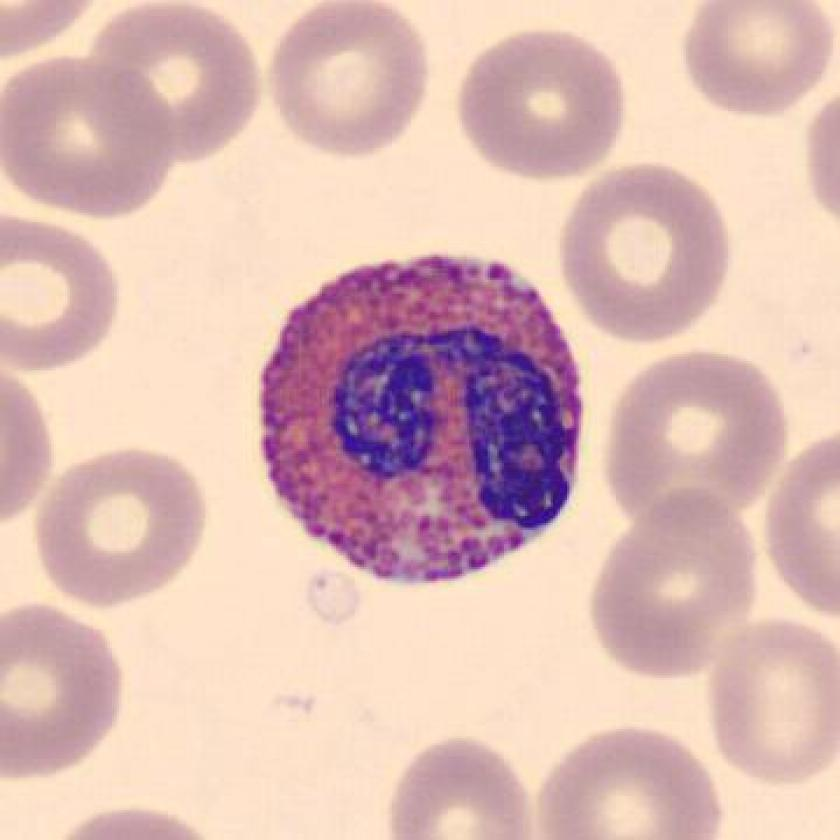eosinophil: (246, 240, 603, 601)
